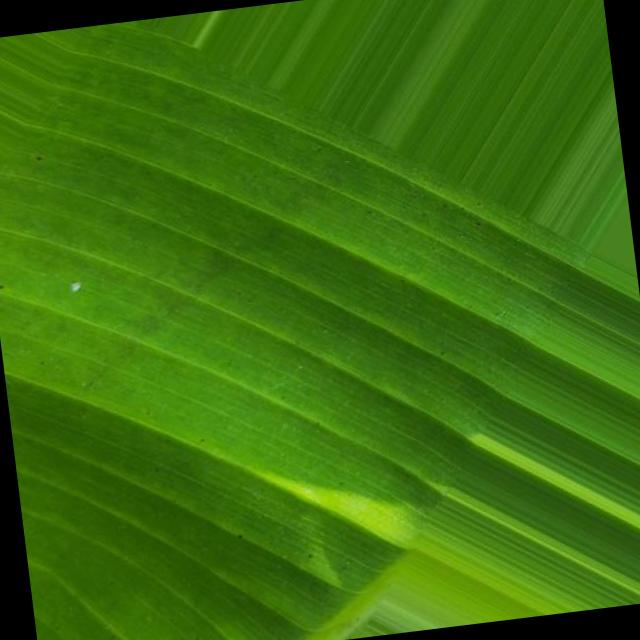Banana_Healthy: (68, 110, 446, 476)
